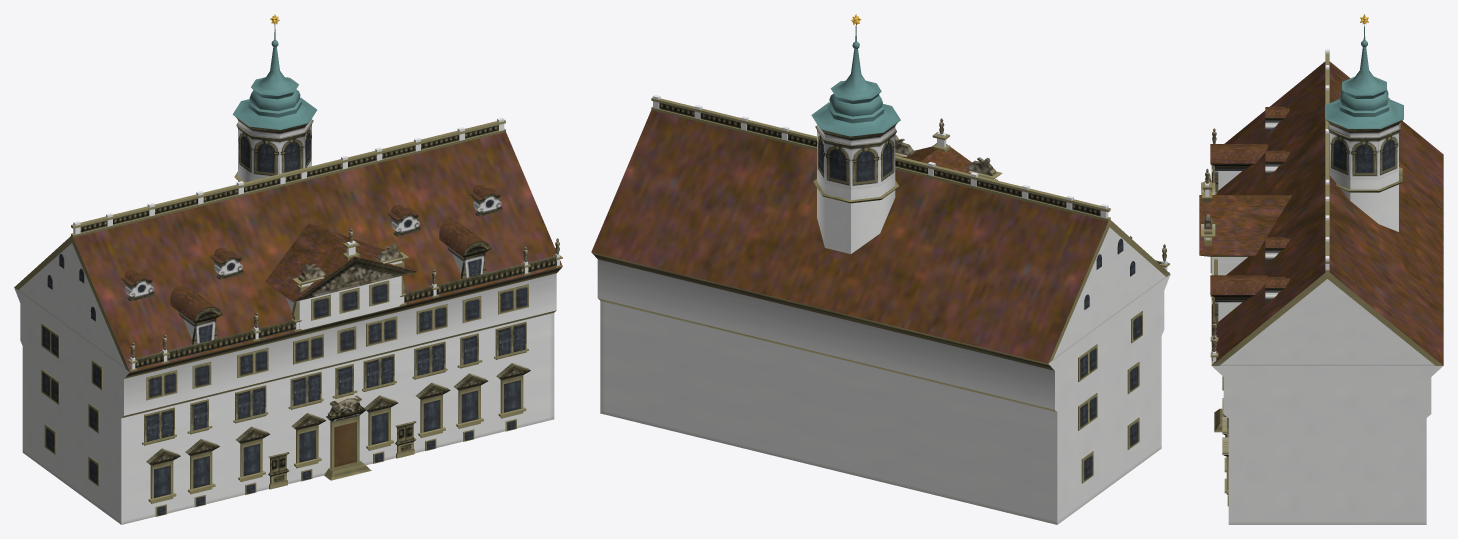
3 renders of one model, left to right at view 1: azimuth 30°, elevation 25°; view 2: azimuth 150°, elevation 25°; view 3: azimuth 270°, elevation 25°, orthographic. The views are drawn at different scales.
Visible parts, largest first — view 1: Collegium_Carolinum; view 2: Collegium_Carolinum; view 3: Collegium_Carolinum.
Part boxes in pixels (x1,y1,x2,y2): Collegium_Carolinum: (14, 14, 562, 524); Collegium_Carolinum: (591, 14, 1170, 524); Collegium_Carolinum: (1199, 14, 1443, 524).
Size of the model in its own units: 23.88 by 21.42 by 11.62.
1 material, 1 textured.
